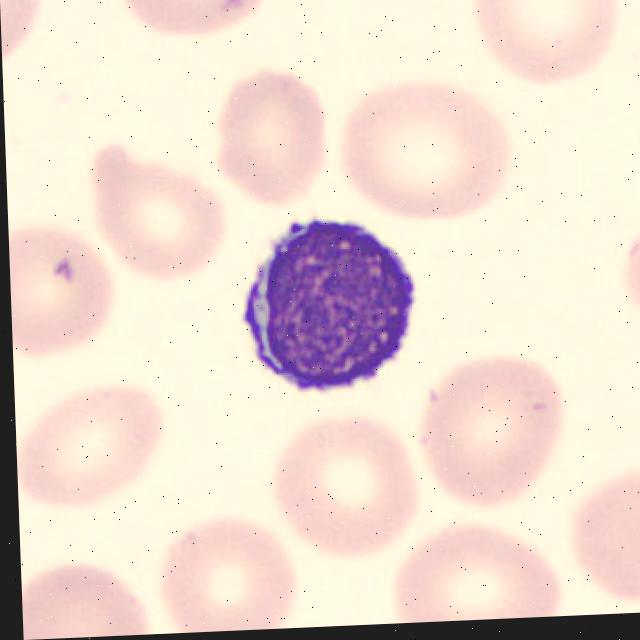lymphocyte: (244, 209, 420, 398)
rbc: (424, 346, 574, 504), (268, 414, 421, 557), (348, 86, 497, 216), (97, 132, 226, 278), (205, 76, 341, 208), (16, 387, 163, 506), (388, 526, 560, 624), (158, 521, 298, 634), (9, 234, 113, 358), (467, 0, 615, 86), (21, 558, 149, 640), (571, 479, 640, 603), (120, 0, 264, 40), (0, 0, 61, 73), (622, 240, 640, 319)
